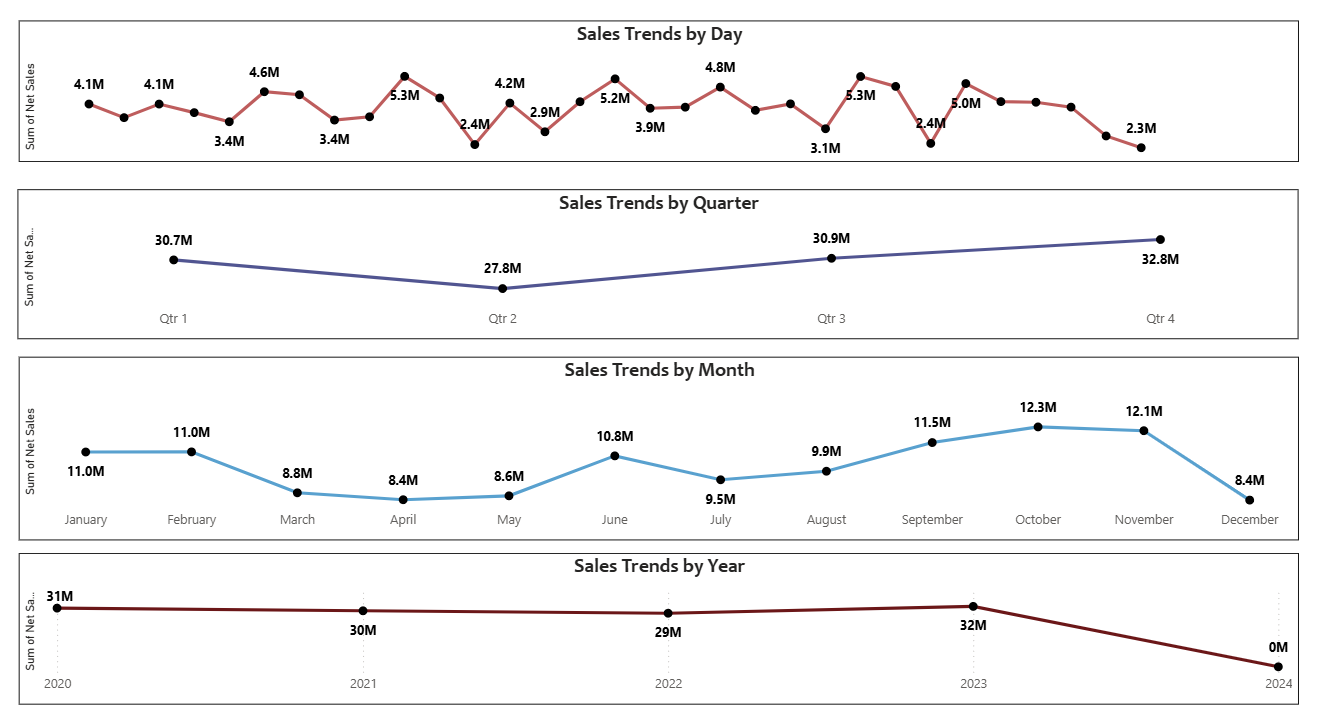

This screenshot's page, from the dashboard's own definition file:
{"tool":"powerbi","page":{"name":"Varitation of Sales trends","canvas":[1280,720],"ordinal":3},"visuals":[{"type":"lineChart","title":"Sales Trends by Year","fields":{"Y":["Sum(Fact Table.Net Sales)"],"Category":["Date Table 1.Date.Variation.Date Hierarchy.Year","Date Table 1.Date.Variation.Date Hierarchy.Quarter","Date Table 1.Date.Variation.Date Hierarchy.Month","Date Table 1.Date.Variation.Date Hierarchy.Day"]},"box":[32.1,546.2,1215.8,143.7],"z":0},{"type":"lineChart","title":"Sales Trends by Month","fields":{"Y":["Sum(Fact Table.Net Sales)"],"Category":["Date Table 1.Date.Variation.Date Hierarchy.Month"]},"box":[32.1,359.8,1215.8,174.5],"z":1000},{"type":"lineChart","title":"Sales Trends by Quarter","fields":{"Y":["Sum(Fact Table.Net Sales)"],"Category":["Date Table 1.Date.Variation.Date Hierarchy.Quarter"]},"box":[30.9,200.7,1217,142.5],"z":2000},{"type":"lineChart","title":"Sales Trends by Day","fields":{"Y":["Sum(Fact Table.Net Sales)"],"Category":["Date Table 1.Date.Variation.Date Hierarchy.Day"]},"box":[32.1,40.4,1215.8,134.2],"z":3000}]}

Visuals, with their boxes on the page's 1280x720 design canvas (x1, y1, x2, y2). These are canvas units, not pixel positions in the 1322x718 screenshot, which may show the page scaled, cropped or inside an application window:
"Sales Trends by Year" lineChart: BBox(32, 546, 1248, 690)
"Sales Trends by Month" lineChart: BBox(32, 360, 1248, 534)
"Sales Trends by Quarter" lineChart: BBox(31, 201, 1248, 343)
"Sales Trends by Day" lineChart: BBox(32, 40, 1248, 175)
